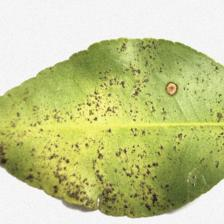canker: (22, 106, 162, 209)
